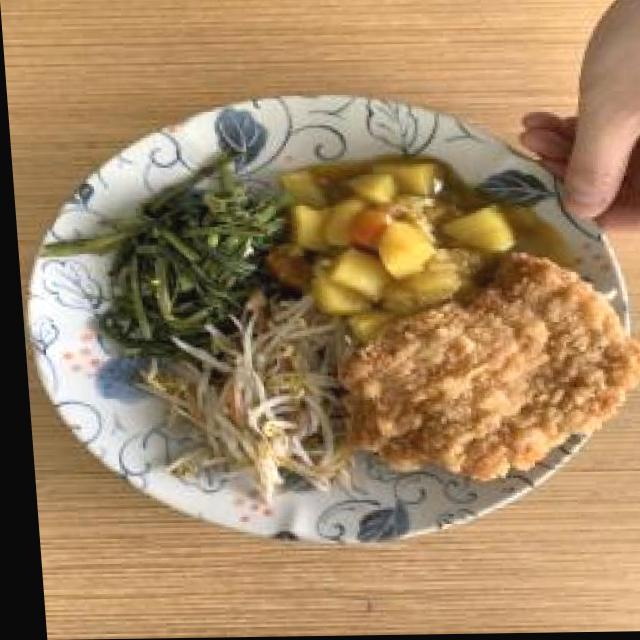curry: (285, 169, 490, 290)
fried_chicken: (346, 266, 628, 479)
mung_bean_sprouts: (165, 334, 342, 466)
water_spinach: (102, 200, 261, 315)
